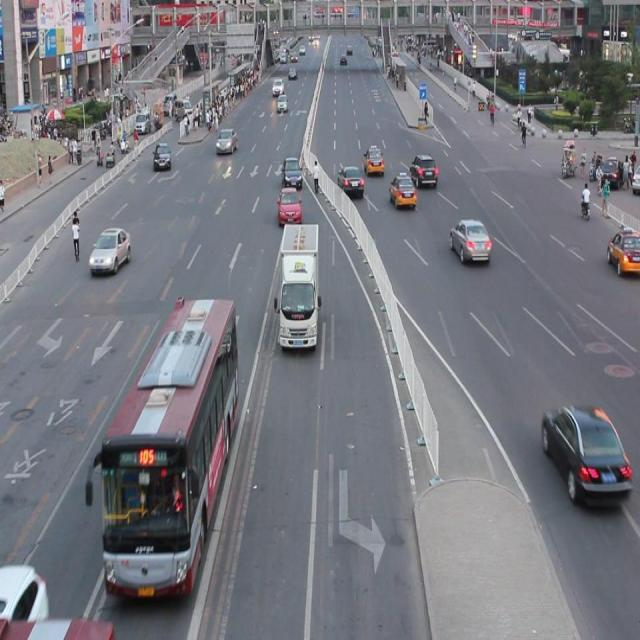bus: (274, 222, 321, 350)
car: (540, 401, 628, 504), (1, 563, 49, 640), (88, 228, 132, 272), (449, 217, 490, 263), (605, 228, 640, 271), (389, 172, 416, 206), (276, 186, 300, 224), (409, 154, 437, 185), (338, 164, 362, 196), (282, 157, 302, 188), (363, 145, 383, 174), (216, 128, 238, 154), (154, 141, 172, 170)
van: (90, 296, 239, 595)
